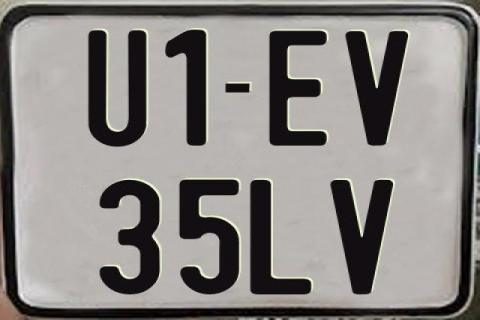0: (98, 179, 162, 297), (177, 179, 238, 297), (162, 28, 205, 146)
E: (267, 28, 327, 147)
L: (249, 180, 311, 299)
U: (86, 30, 145, 150)
V: (344, 29, 412, 145), (330, 177, 395, 297)
